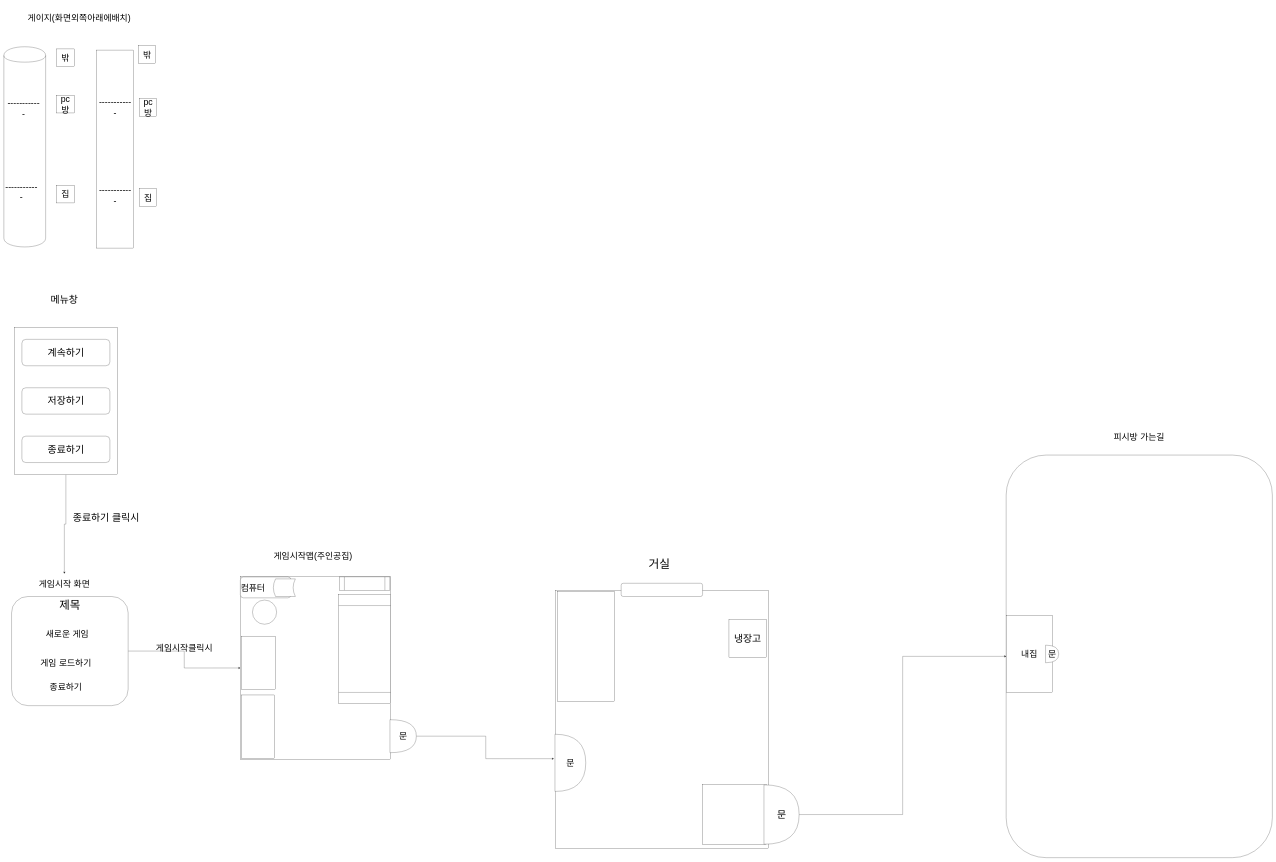
This 1276x862 diagram has some shape labels left out. Here are the shapes that lost their labels. From the top down, the centre of each, then its label:
the point at 284,587: 일기
the point at 364,583: 책장
the point at 662,589: 창문
the point at 264,612: 의자
the point at 258,662: 옷장
the point at 364,648: 침대
the point at 585,646: 싱크대
the point at 258,726: 공부 책상
the point at 734,814: 신발장
